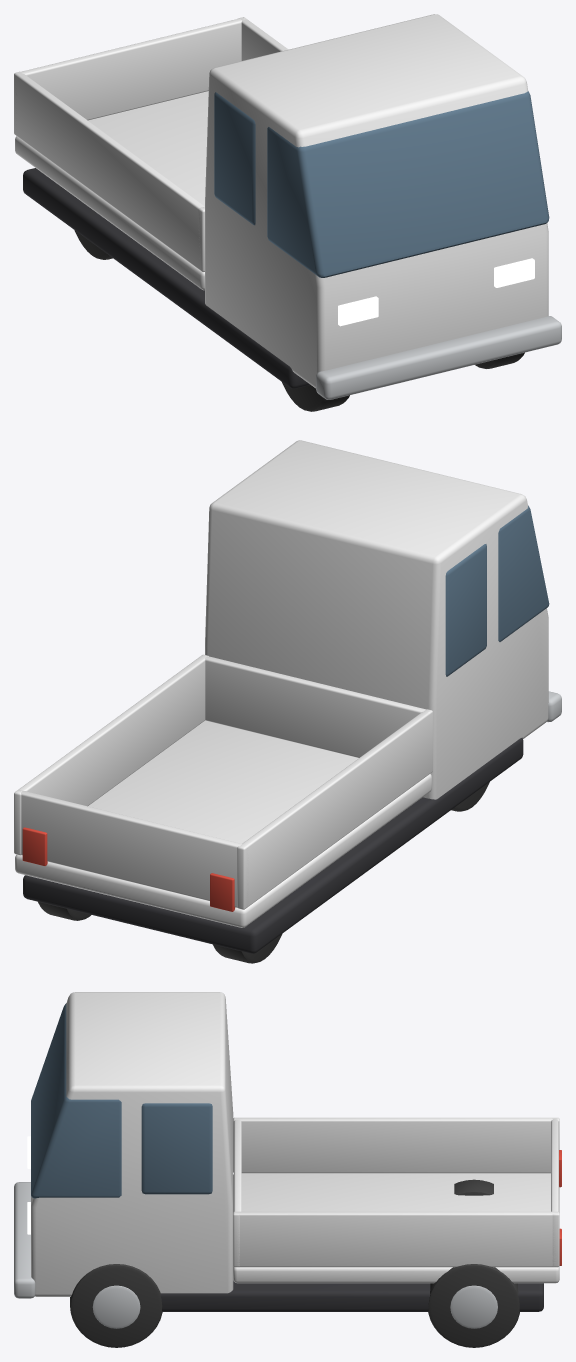
Rendered from keitora.glb.
The picture shows the model from 3 angles, top to bottom: view 1: azimuth 30°, elevation 25°; view 2: azimuth 150°, elevation 25°; view 3: azimuth 270°, elevation 25°; orthographic projection. The views are drawn at different scales.
Visible parts, largest first — view 1: keitora; view 2: keitora; view 3: keitora.
Part boxes in pixels (box(x1,y1,x2,y2)): keitora: box(14, 14, 561, 411); keitora: box(14, 440, 561, 963); keitora: box(14, 992, 561, 1347).
Bounding box in the file's own units: 1.53 × 1.85 × 3.53.
